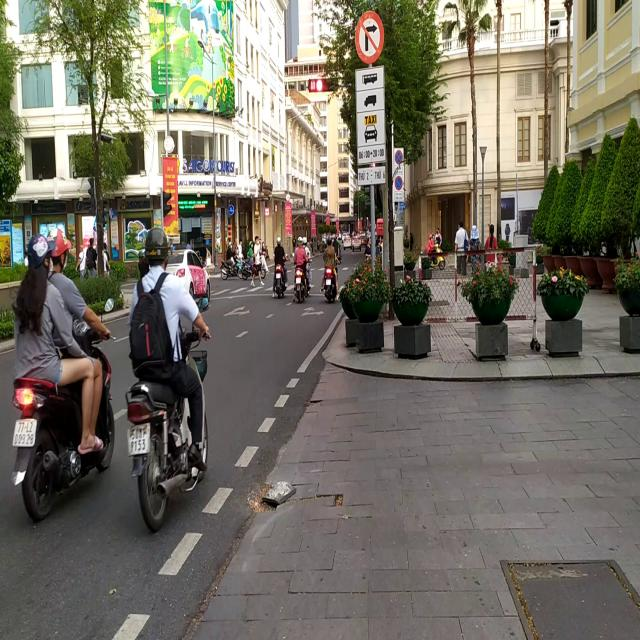bien_trang: (10, 415, 36, 449), (126, 426, 152, 455)
